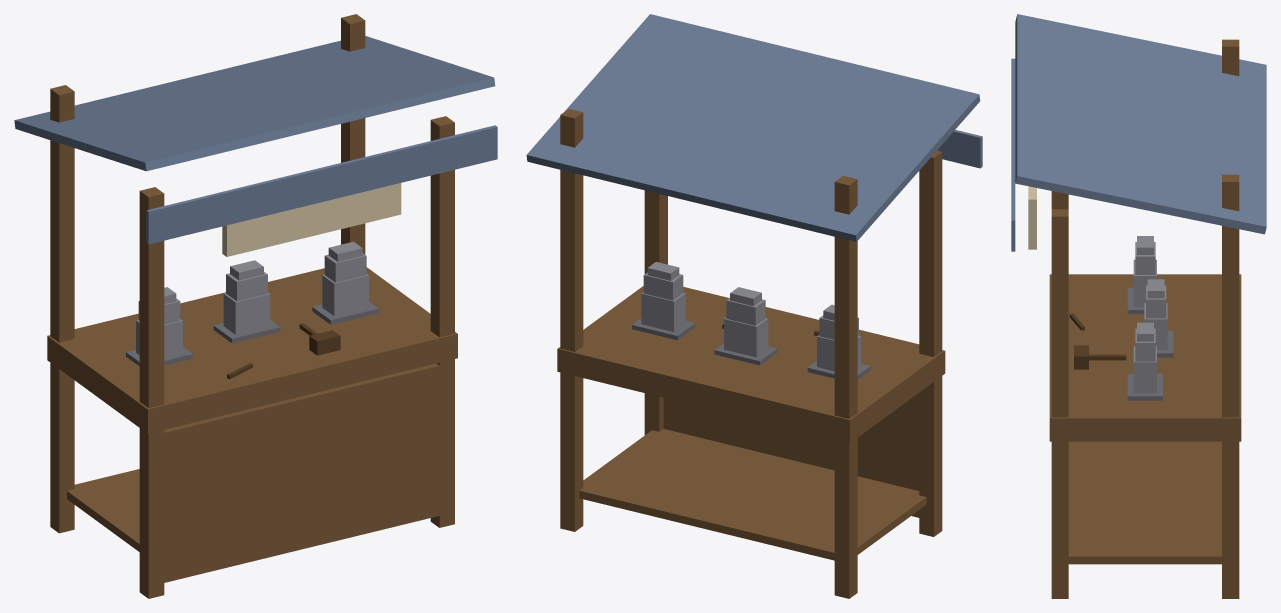
Rendered from Prop_YTM_Stall_Stone_LOD1.glb.
3 renders of one model, left to right at view 1: azimuth 30°, elevation 25°; view 2: azimuth 150°, elevation 25°; view 3: azimuth 270°, elevation 25°, orthographic. The views are drawn at different scales.
Parts seen in each view (by area): view 1: Prop_YTM_Stall_Stone, Prop_YTM_Stall_Stone_Goods; view 2: Prop_YTM_Stall_Stone, Prop_YTM_Stall_Stone_Goods; view 3: Prop_YTM_Stall_Stone, Prop_YTM_Stall_Stone_Goods.
Boxes of the visible parts, x1,y1,x2,y2 form: Prop_YTM_Stall_Stone: [14, 14, 497, 598]; Prop_YTM_Stall_Stone_Goods: [126, 241, 379, 378]; Prop_YTM_Stall_Stone: [526, 14, 982, 598]; Prop_YTM_Stall_Stone_Goods: [632, 262, 870, 379]; Prop_YTM_Stall_Stone: [1011, 14, 1266, 598]; Prop_YTM_Stall_Stone_Goods: [1069, 236, 1173, 400].
Size of the model in its own units: 1.8 by 2.24 by 1.2.
